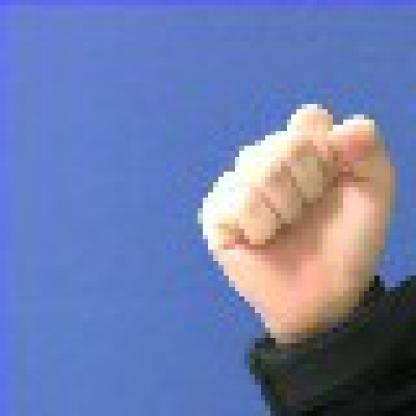zero: (120, 47, 414, 338)
